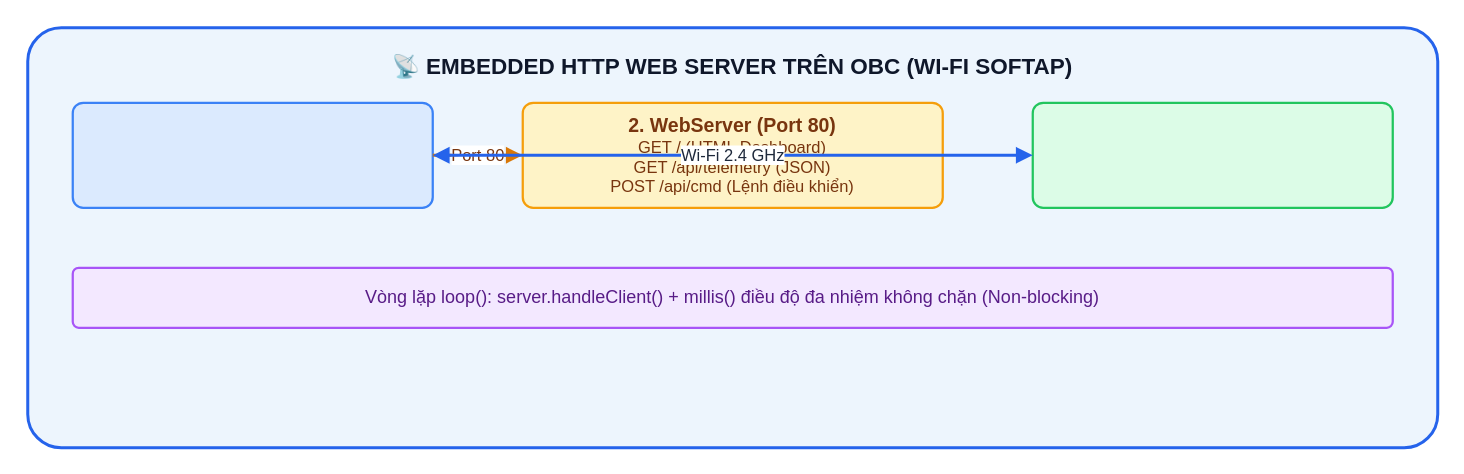
This 1464x474 diagram has some shape labels left out. Here are the shapes that lost their labels. From the top down, the box of each, then its label:
(71, 101, 433, 208): 1. Wi-Fi SoftAP SSID: PTITCube-OBC IP: 192.168.4.1
(1031, 101, 1393, 208): 3. Web Browser (Client) fetch() cập nhật dữ liệu viễn trắc trực tiếp
